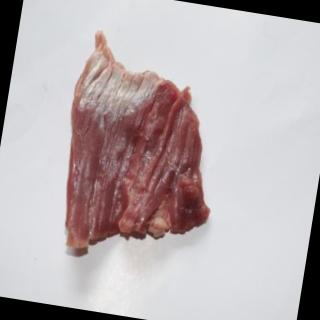Daging Sapi: (54, 32, 239, 269)
